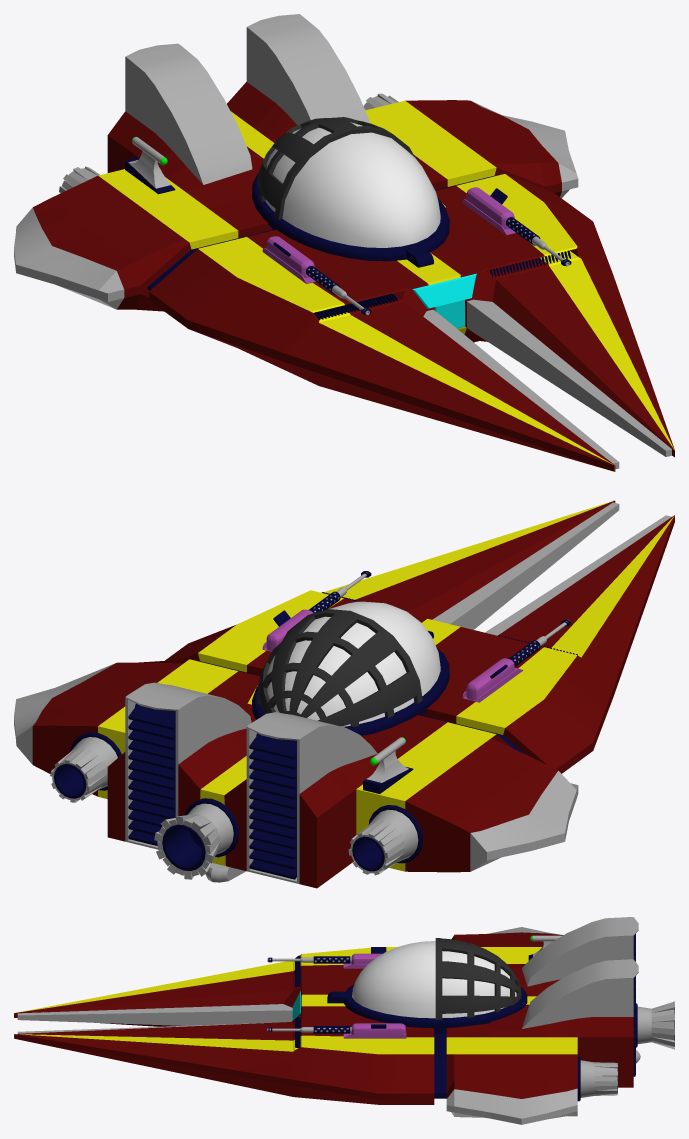
Rendered from HeroShipModel.fbx.
3 renders of one model, top to bottom at view 1: azimuth 30°, elevation 25°; view 2: azimuth 150°, elevation 25°; view 3: azimuth 270°, elevation 25°, orthographic. The views are drawn at different scales.
Visible parts, largest first — view 1: ShipMesh, Cockpit_Glass, Cockpit_Cage, Cockpit_Ring, polySurface11, polySurface24, Antena, pCube26, Booster1; view 2: ShipMesh, Tail_Vents, Cockpit_Cage, Cockpit_Glass, Booster1, Booster, Cockpit_Ring, polySurface24, Antena, polySurface11; view 3: ShipMesh, Cockpit_Glass, Cockpit_Cage, Cockpit_Ring, Booster, Booster1, polySurface11, polySurface24, Tail_Vents, pCube26.
Boxes of the visible parts, left/top/right/bottom form: ShipMesh: left=14, top=14, right=674, bottom=471; Cockpit_Glass: left=265, top=122, right=440, bottom=247; Cockpit_Cage: left=257, top=117, right=414, bottom=219; Cockpit_Ring: left=252, top=173, right=449, bottom=267; polySurface11: left=462, top=187, right=571, bottom=266; polySurface24: left=262, top=236, right=371, bottom=314; Antena: left=125, top=137, right=175, bottom=194; pCube26: left=313, top=250, right=570, bottom=320; Booster1: left=59, top=93, right=398, bottom=192; ShipMesh: left=14, top=500, right=674, bottom=888; Tail_Vents: left=128, top=703, right=296, bottom=879; Cockpit_Cage: left=257, top=609, right=422, bottom=726; Cockpit_Glass: left=267, top=601, right=440, bottom=726; Booster1: left=50, top=732, right=423, bottom=875; Booster: left=154, top=798, right=239, bottom=879; Cockpit_Ring: left=252, top=630, right=449, bottom=735; polySurface24: left=462, top=619, right=571, bottom=702; Antena: left=363, top=737, right=413, bottom=793; polySurface11: left=262, top=571, right=371, bottom=651; ShipMesh: left=14, top=917, right=638, bottom=1124; Cockpit_Glass: left=352, top=941, right=516, bottom=1018; Cockpit_Cage: left=435, top=938, right=521, bottom=1019; Cockpit_Ring: left=327, top=984, right=527, bottom=1028; Booster: left=636, top=1001, right=674, bottom=1049; Booster1: left=577, top=1057, right=617, bottom=1101; polySurface11: left=267, top=1023, right=406, bottom=1038; polySurface24: left=267, top=947, right=386, bottom=968; Tail_Vents: left=633, top=934, right=635, bottom=1076; pCube26: left=295, top=955, right=300, bottom=1048.
Bounding box in the file's own units: 15.23 × 5.03 × 22.18.
